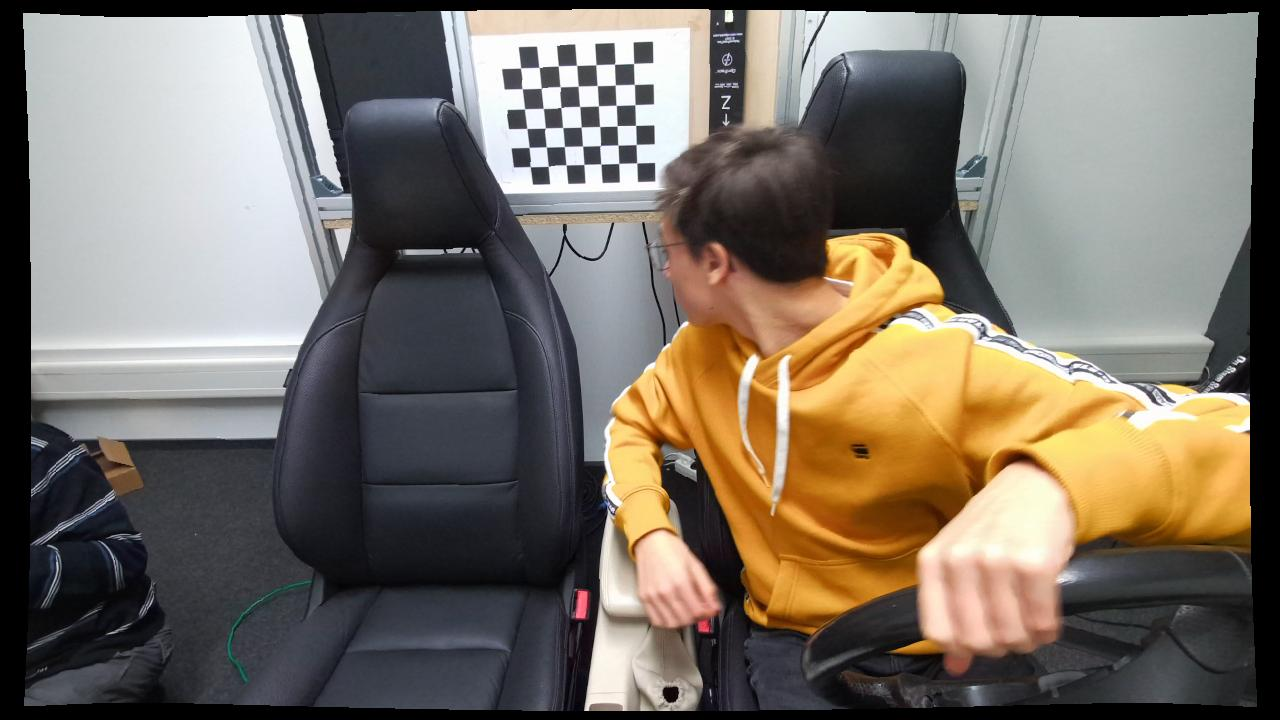Distracted: (611, 82, 1052, 713)
